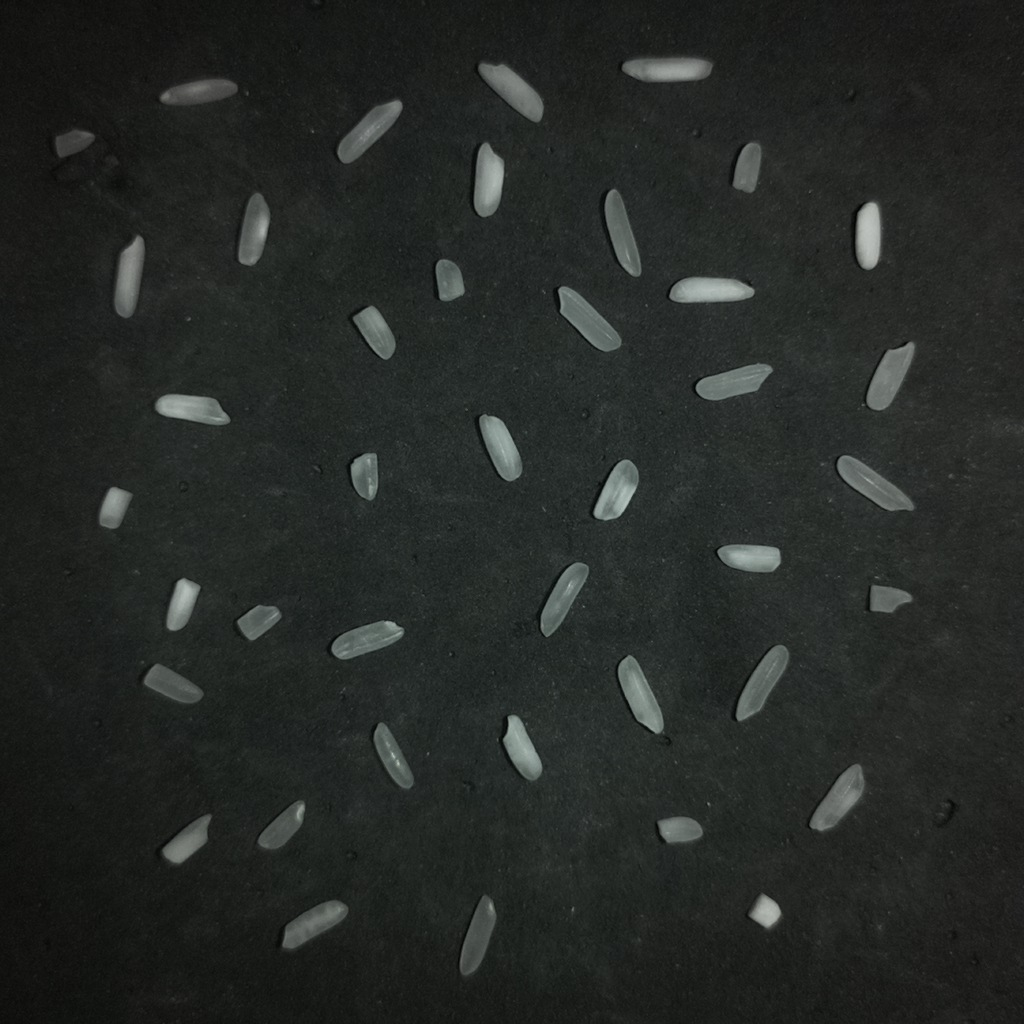broken: (257, 800, 305, 851), (352, 305, 395, 359), (143, 664, 202, 703), (854, 201, 880, 269), (236, 605, 282, 641), (732, 142, 761, 192), (350, 453, 378, 500), (435, 258, 464, 301), (54, 129, 94, 158), (869, 585, 911, 612), (658, 814, 701, 840)
chalky: (478, 62, 543, 122), (617, 655, 663, 733), (281, 900, 347, 950), (478, 415, 522, 481), (593, 460, 637, 520), (502, 715, 541, 781), (113, 235, 144, 317), (161, 814, 211, 864), (622, 56, 712, 82), (154, 394, 229, 425), (473, 143, 503, 216), (166, 578, 200, 630), (717, 544, 780, 572), (98, 486, 132, 528), (747, 893, 781, 928)
whole: (837, 455, 914, 510), (336, 99, 402, 163), (558, 286, 620, 351), (735, 645, 788, 720), (809, 764, 864, 830), (540, 562, 589, 636), (866, 342, 914, 410), (604, 189, 640, 276), (695, 363, 772, 400), (460, 895, 495, 976), (331, 620, 403, 659), (373, 723, 413, 788), (237, 193, 269, 265), (669, 277, 754, 302), (160, 78, 237, 105)
